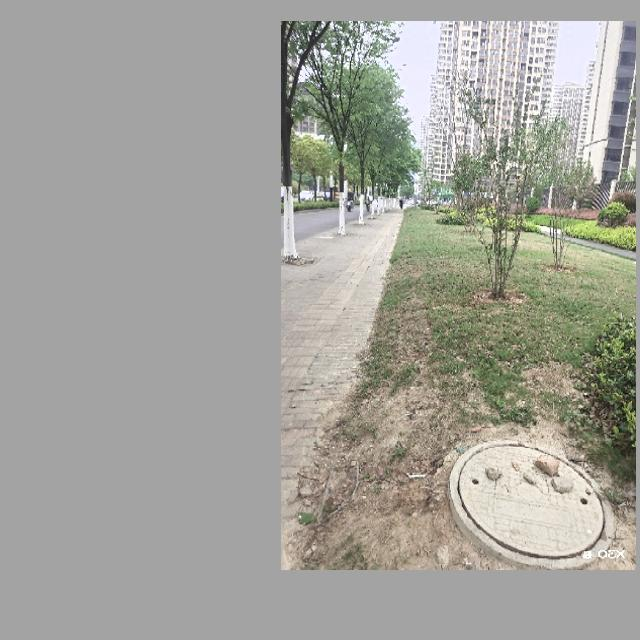good: (446, 438, 615, 570)
